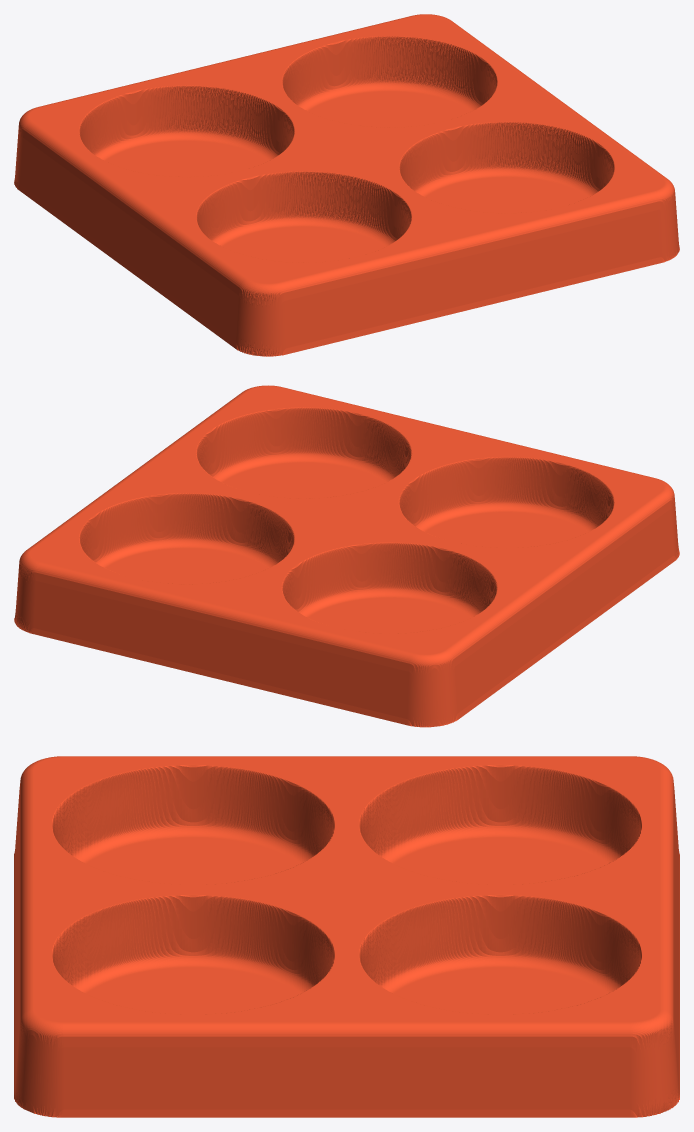
File: mold.glb
The picture shows the model from 3 angles, top to bottom: view 1: azimuth 30°, elevation 25°; view 2: azimuth 150°, elevation 25°; view 3: azimuth 270°, elevation 25°; orthographic projection. The views are drawn at different scales.
Visible parts, largest first — view 1: geometry_0; view 2: geometry_0; view 3: geometry_0.
Boxes of the visible parts, x1,y1,x2,y2 form: geometry_0: [14, 14, 679, 356]; geometry_0: [14, 385, 679, 727]; geometry_0: [14, 756, 679, 1117].
Bounding box in the file's own units: 0.1211 × 0.0175 × 0.1211.
